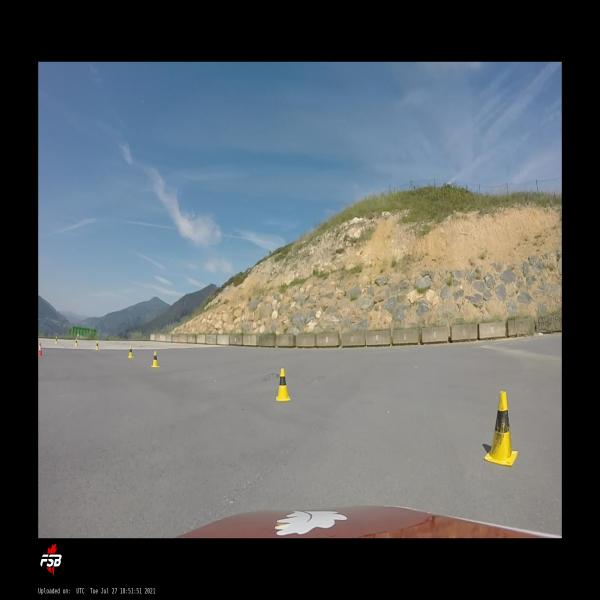orange_cone: (39, 343, 43, 356)
yellow_cone: (484, 391, 518, 467), (276, 369, 290, 402), (150, 351, 160, 368), (127, 346, 134, 358), (95, 341, 99, 350), (75, 338, 78, 347), (55, 336, 58, 344)
